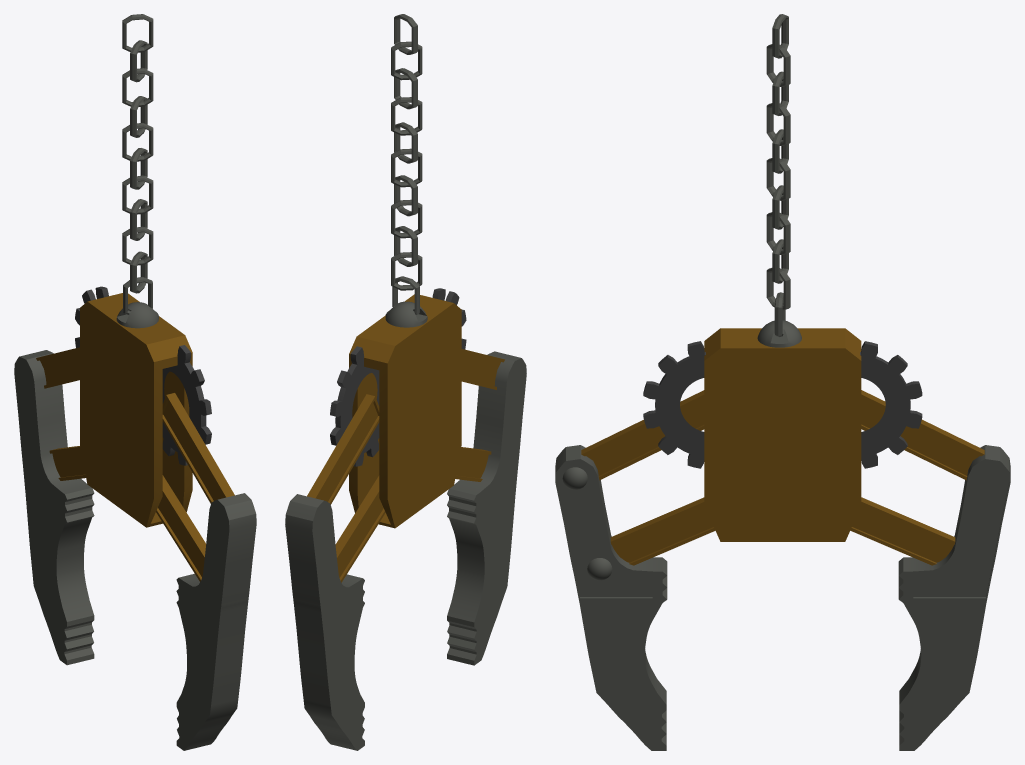
Rendered from P_Pince_Animation.fbx.
The picture shows the model from 3 angles, left to right: view 1: azimuth 30°, elevation 25°; view 2: azimuth 150°, elevation 25°; view 3: azimuth 270°, elevation 25°; orthographic projection. The views are drawn at different scales.
Visible parts, largest first — view 1: P_Pince, P_Anneau, P_Anneau.009, P_Anneau.002, P_Anneau.005, P_Anneau.011, P_Anneau.007, P_Anneau.003, P_Anneau.006, P_Anneau.008, P_Anneau.010; view 2: P_Pince, P_Anneau, P_Anneau.006, P_Anneau.010, P_Anneau.003, P_Anneau.008, P_Anneau.002, P_Anneau.005, P_Anneau.009, P_Anneau.007, P_Anneau.011, P_Anneau.001; view 3: P_Pince.
Part boxes in pixels (left/top/right/bottom): P_Pince: left=14, top=286, right=256, bottom=750; P_Anneau: left=122, top=14, right=153, bottom=52; P_Anneau.009: left=130, top=96, right=147, bottom=137; P_Anneau.002: left=130, top=251, right=147, bottom=293; P_Anneau.005: left=130, top=199, right=147, bottom=240; P_Anneau.011: left=130, top=40, right=147, bottom=82; P_Anneau.007: left=130, top=148, right=147, bottom=189; P_Anneau.003: left=122, top=226, right=153, bottom=265; P_Anneau.006: left=122, top=175, right=153, bottom=214; P_Anneau.008: left=122, top=123, right=153, bottom=161; P_Anneau.010: left=122, top=68, right=153, bottom=106; P_Pince: left=285, top=288, right=526, bottom=750; P_Anneau: left=394, top=14, right=417, bottom=54; P_Anneau.006: left=394, top=175, right=417, bottom=216; P_Anneau.010: left=394, top=68, right=417, bottom=109; P_Anneau.003: left=394, top=226, right=417, bottom=266; P_Anneau.008: left=394, top=122, right=417, bottom=163; P_Anneau.002: left=391, top=252, right=422, bottom=290; P_Anneau.005: left=391, top=199, right=422, bottom=238; P_Anneau.009: left=391, top=97, right=422, bottom=135; P_Anneau.007: left=391, top=148, right=422, bottom=187; P_Anneau.011: left=391, top=41, right=422, bottom=80; P_Anneau.001: left=392, top=276, right=419, bottom=314; P_Pince: left=555, top=320, right=1010, bottom=750.
Bounding box in the file's own units: 187 × 3156 × 1790.
